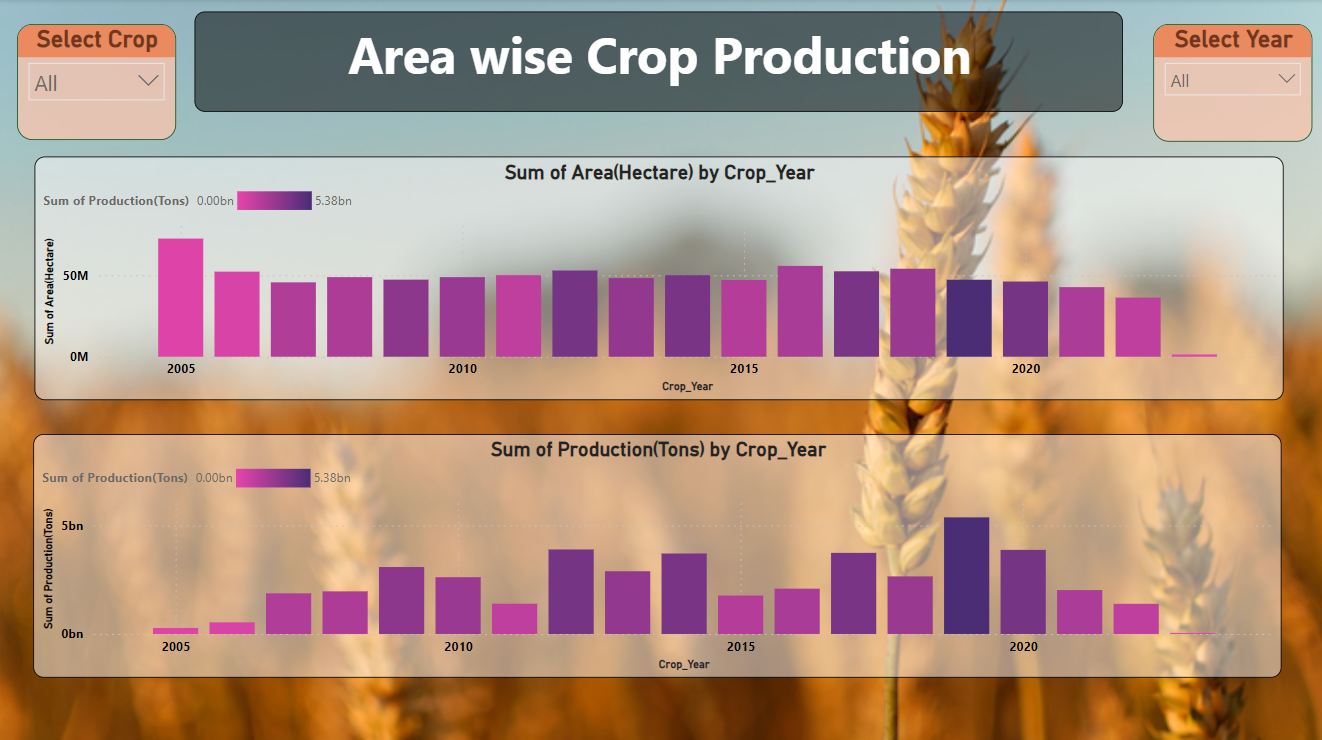

Layout of this report page (visuals, bound fields, positions):
{"tool":"powerbi","page":{"name":"Area wise crop Production","canvas":[1280,720],"ordinal":4},"visuals":[{"type":"textbox","box":[190.6,12.1,896.4,96.5],"z":0},{"type":"columnChart","fields":{"Category":["apy_1.Crop_Year"],"Y":["Sum(apy_1.Area(Hectare))"]},"box":[36.2,152,1205.2,235.3],"z":1000},{"type":"columnChart","fields":{"Category":["apy_1.Crop_Year"],"Y":["Sum(apy_1.Production(Tons))"]},"box":[35,419.5,1205,235],"z":2000},{"type":"slicer","title":"Select Crop","fields":{"Values":["apy_1.Crop"]},"box":[19.3,24.1,153.2,112.2],"z":3000},{"type":"slicer","title":"Select Year","fields":{"Values":["apy_1.Crop_Year"]},"box":[1116,24.1,153.2,113.4],"z":4000}]}

Visuals, with their boxes in screenshot pixels (x1, y1, x2, y2), scaled from the page's 1280x720 canvas onto the 1322x740 screenshot:
textbox: bbox(197, 12, 1123, 112)
columnChart - apy_1.Crop_Year x Sum(apy_1.Area(Hectare)): bbox(37, 156, 1282, 398)
columnChart - apy_1.Crop_Year x Sum(apy_1.Production(Tons)): bbox(36, 431, 1281, 673)
"Select Crop" slicer: bbox(20, 25, 178, 140)
"Select Year" slicer: bbox(1153, 25, 1311, 141)
